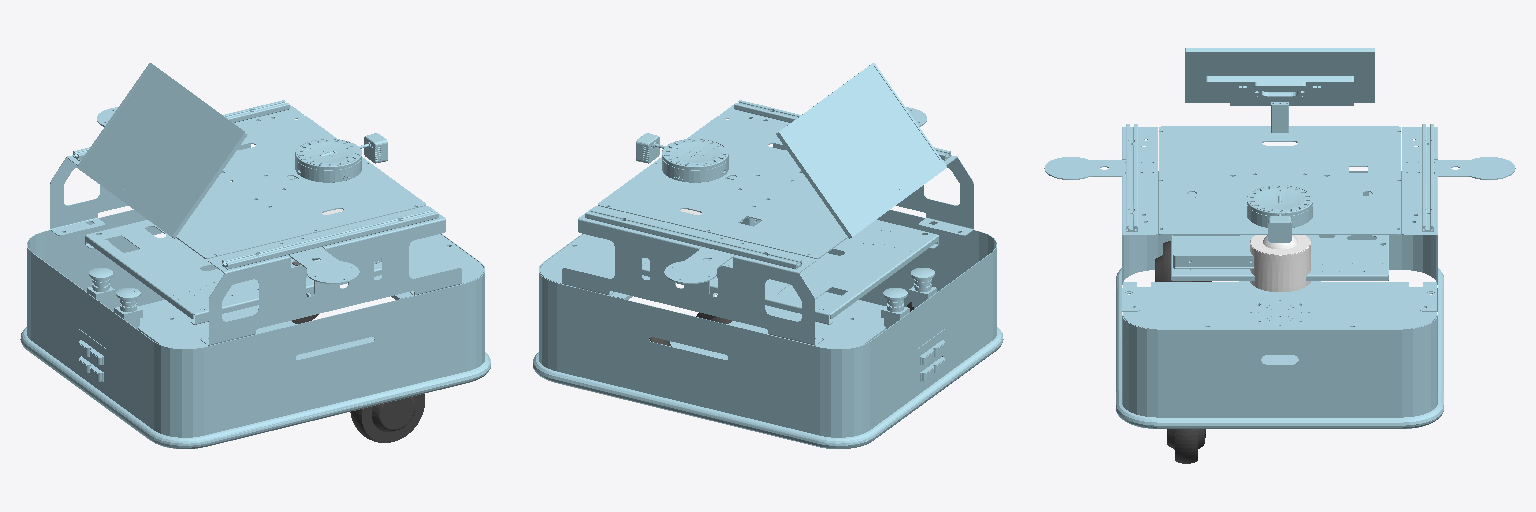
URDF robot description (lucsys_lsr200auto_akm_lite):
<?xml version="1.0" encoding="utf-8"?>
<robot name="lucsys_lsr200auto_akm_lite">
  <link name="base_link">
    <inertial>
      <origin xyz="-0.0283966067637906 0.00449390506381457 0.0692458862341471" rpy="0 0 0" />
      <mass value="1.41795964763811" />
      <inertia ixx="0.00365403013342928" ixy="-8.41076498613861E-06" ixz="-0.000120522462398885" iyy="0.00594517964152508" iyz="1.64128430565514E-06" izz="0.00899915205791385" />
    </inertial>
    <visual>
      <origin xyz="0 0 0" rpy="0 0 0" />
      <geometry>
        <mesh filename="package://lucsys_lsr200auto_akm_lite_description/meshes/lsr200auto_akm_lite/base_link.STL" />
      </geometry>
      <material name="lucsys_material_0">
        <color rgba="0.741176470588235 0.901960784313726 0.956862745098039 1" />
      </material>
    </visual>
    <collision>
      <origin xyz="0 0 0" rpy="0 0 0" />
      <geometry>
        <mesh filename="package://lucsys_lsr200auto_akm_lite_description/meshes/lsr200auto_akm_lite/base_link.STL" />
      </geometry>
    </collision>
  </link>
  <link name="lf_wheel_link">
    <inertial>
      <origin xyz="-2.36231678163445E-07 0.00330933793323804 1.59939802549941E-05" rpy="0 0 0" />
      <mass value="0.282382363555527" />
      <inertia ixx="0.000386424115262233" ixy="-5.52680329595221E-08" ixz="-4.06926730365545E-09" iyy="0.000685587986049065" iyz="2.23798747337568E-08" izz="0.000386465585918261" />
    </inertial>
    <visual>
      <origin xyz="0 0 0" rpy="0 0 0" />
      <geometry>
        <mesh filename="package://lucsys_lsr200auto_akm_lite_description/meshes/lsr200auto_akm_lite/lf_wheel_link.STL" />
      </geometry>
      <material name="lucsys_material_1">
        <color rgba="0.349019607843137 0.349019607843137 0.349019607843137 1" />
      </material>
    </visual>
    <collision>
      <origin xyz="0 0 0" rpy="0 0 0" />
      <geometry>
        <mesh filename="package://lucsys_lsr200auto_akm_lite_description/meshes/lsr200auto_akm_lite/lf_wheel_link.STL" />
      </geometry>
    </collision>
  </link>
  <joint name="lf_wheel_joint" type="continuous">
    <origin xyz="0.1608 0.15274 0.0241" rpy="0 0 0" />
    <parent link="base_link" />
    <child link="lf_wheel_link" />
    <axis xyz="-0.00018436 1 0" />
  </joint>
  <link name="lb_wheel_link">
    <inertial>
      <origin xyz="-3.76432267024107E-07 0.00330933793138721 -1.59969838649243E-05" rpy="0 0 0" />
      <mass value="0.282382358217047" />
      <inertia ixx="0.00038642408363422" ixy="1.15581655418689E-10" ixz="-3.93574712946211E-09" iyy="0.000685587984367836" iyz="-2.23805637399097E-08" izz="0.000386465595314486" />
    </inertial>
    <visual>
      <origin xyz="0 0 0" rpy="0 0 0" />
      <geometry>
        <mesh filename="package://lucsys_lsr200auto_akm_lite_description/meshes/lsr200auto_akm_lite/lb_wheel_link.STL" />
      </geometry>
      <material name="lucsys_material_2">
        <color rgba="0.349019607843137 0.349019607843137 0.349019607843137 1" />
      </material>
    </visual>
    <collision>
      <origin xyz="0 0 0" rpy="0 0 0" />
      <geometry>
        <mesh filename="package://lucsys_lsr200auto_akm_lite_description/meshes/lsr200auto_akm_lite/lb_wheel_link.STL" />
      </geometry>
    </collision>
  </link>
  <joint name="lb_wheel_joint" type="continuous">
    <origin xyz="-0.15789 0.15434 0.024" rpy="0 0 0" />
    <parent link="base_link" />
    <child link="lb_wheel_link" />
    <axis xyz="0 1 0" />
  </joint>
  <link name="rf_wheel_link">
    <inertial>
      <origin xyz="-3.74894962795747E-07 -0.000558652495833062 1.59951939343872E-05" rpy="0 0 0" />
      <mass value="0.282382361164223" />
      <inertia ixx="0.000386424096336984" ixy="-1.15258330841376E-10" ixz="4.013416843381E-09" iyy="0.000685587991396148" iyz="-2.23809588870044E-08" izz="0.000386465589640663" />
    </inertial>
    <visual>
      <origin xyz="0 0 0" rpy="0 0 0" />
      <geometry>
        <mesh filename="package://lucsys_lsr200auto_akm_lite_description/meshes/lsr200auto_akm_lite/rf_wheel_link.STL" />
      </geometry>
      <material name="lucsys_material_3">
        <color rgba="0.349019607843137 0.349019607843137 0.349019607843137 1" />
      </material>
    </visual>
    <collision>
      <origin xyz="0 0 0" rpy="0 0 0" />
      <geometry>
        <mesh filename="package://lucsys_lsr200auto_akm_lite_description/meshes/lsr200auto_akm_lite/rf_wheel_link.STL" />
      </geometry>
    </collision>
  </link>
  <joint name="rf_wheel_joint" type="continuous">
    <origin xyz="0.16081 -0.15386 0.0241" rpy="0 0 0" />
    <parent link="base_link" />
    <child link="rf_wheel_link" />
    <axis xyz="0 -1 0" />
  </joint>
  <link name="rb_wheel_link">
    <inertial>
      <origin xyz="6.52788980146091E-06 -0.000720322950036045 -1.47176288457715E-05" rpy="0 0 0" />
      <mass value="0.282382030867651" />
      <inertia ixx="0.000386426695992825" ixy="-7.9828866885517E-09" ixz="-1.26490539844854E-08" iyy="0.000685587939610514" iyz="2.0564113418309E-08" izz="0.000386462912707388" />
    </inertial>
    <visual>
      <origin xyz="0 0 0" rpy="0 0 0" />
      <geometry>
        <mesh filename="package://lucsys_lsr200auto_akm_lite_description/meshes/lsr200auto_akm_lite/rb_wheel_link.STL" />
      </geometry>
      <material name="lucsys_material_4">
        <color rgba="0.349019607843137 0.349019607843137 0.349019607843137 1" />
      </material>
    </visual>
    <collision>
      <origin xyz="0 0 0" rpy="0 0 0" />
      <geometry>
        <mesh filename="package://lucsys_lsr200auto_akm_lite_description/meshes/lsr200auto_akm_lite/rb_wheel_link.STL" />
      </geometry>
    </collision>
  </link>
  <joint name="rb_wheel_joint" type="continuous">
    <origin xyz="-0.15789 -0.1551 0.024" rpy="0 0 0" />
    <parent link="base_link" />
    <child link="rb_wheel_link" />
    <axis xyz="0 -1 0" />
  </joint>
  <link name="camera_link">
    <inertial>
      <origin xyz="3.24079092423046E-07 -2.22961604536042E-07 2.75547143435695E-07" rpy="0 0 0" />
      <mass value="0.0225464179517412" />
      <inertia ixx="2.01763360282011E-05" ixy="2.69072068298058E-09" ixz="3.95121304971283E-07" iyy="3.8119108395589E-06" iyz="-1.67828050851604E-08" izz="1.8077914186534E-05" />
    </inertial>
    <visual>
      <origin xyz="0 0 0" rpy="0 0 0" />
      <geometry>
        <mesh filename="package://lucsys_lsr200auto_akm_lite_description/meshes/lsr200auto_akm_lite/camera_link.STL" />
      </geometry>
      <material name="lucsys_material_5">
        <color rgba="1 1 1 1" />
      </material>
    </visual>
    <collision>
      <origin xyz="0 0 0" rpy="0 0 0" />
      <geometry>
        <mesh filename="package://lucsys_lsr200auto_akm_lite_description/meshes/lsr200auto_akm_lite/camera_link.STL" />
      </geometry>
    </collision>
  </link>
  <joint name="camera_joint" type="fixed">
    <origin xyz="0.16983 0.00067299 0.085068" rpy="0 0 0" />
    <parent link="base_link" />
    <child link="camera_link" />
    <axis xyz="0 0 0" />
  </joint>
  <link name="gyro_link">
    <inertial>
      <origin xyz="-0.0226680356023408 0.0293499994998707 0.00556835972762262" rpy="0 0 0" />
      <mass value="0.0236095918180264" />
      <inertia ixx="5.41912566272011E-06" ixy="-2.20925590187751E-14" ixz="-1.81405417766127E-09" iyy="4.38737045547093E-06" iyz="4.78388289459201E-14" izz="9.32311354559021E-06" />
    </inertial>
    <visual>
      <origin xyz="0 0 0" rpy="0 0 0" />
      <geometry>
        <mesh filename="package://lucsys_lsr200auto_akm_lite_description/meshes/lsr200auto_akm_lite/gyro_link.STL" />
      </geometry>
      <material name="lucsys_material_6">
        <color rgba="0.741176470588235 0.901960784313726 0.956862745098039 1" />
      </material>
    </visual>
    <collision>
      <origin xyz="0 0 0" rpy="0 0 0" />
      <geometry>
        <mesh filename="package://lucsys_lsr200auto_akm_lite_description/meshes/lsr200auto_akm_lite/gyro_link.STL" />
      </geometry>
    </collision>
  </link>
  <joint name="gyro_joint" type="fixed">
    <origin xyz="-0.052356 0.023789 0.0651" rpy="0 0 0" />
    <parent link="base_link" />
    <child link="gyro_link" />
    <axis xyz="0 0 0" />
  </joint>
  <link name="laser_link">
    <inertial>
      <origin xyz="-0.134373780808885 0.00199599031449515 -0.118434690411188" rpy="0 0 0" />
      <mass value="3.24885081568233" />
      <inertia ixx="0.103396952888868" ixy="-0.000357980293990003" ixz="0.00873509796770719" iyy="0.126106847247279" iyz="0.000430607025614972" izz="0.0918790685654746" />
    </inertial>
    <visual>
      <origin xyz="0 0 0" rpy="0 0 0" />
      <geometry>
        <mesh filename="package://lucsys_lsr200auto_akm_lite_description/meshes/lsr200auto_akm_lite/laser_link.STL" />
      </geometry>
      <material name="lucsys_material_7">
        <color rgba="1 1 1 1" />
      </material>
    </visual>
    <collision>
      <origin xyz="0 0 0" rpy="0 0 0" />
      <geometry>
        <mesh filename="package://lucsys_lsr200auto_akm_lite_description/meshes/lsr200auto_akm_lite/laser_link.STL" />
      </geometry>
    </collision>
  </link>
  <joint name="laser_joint" type="fixed">
    <origin xyz="0.11437 0.00081099 0.2342" rpy="0 0 0" />
    <parent link="base_link" />
    <child link="laser_link" />
    <axis xyz="0 0 0" />
  </joint>
  <link name="rtk_link">
    <inertial>
      <origin xyz="1.93873221414342E-07 -5.57900590481797E-09 4.88318818492317E-07" rpy="0 0 0" />
      <mass value="0.654865522959427" />
      <inertia ixx="0.000819546658415736" ixy="-9.57810009855074E-11" ixz="1.19748582927923E-06" iyy="0.000817613597625929" iyz="-8.55672374604797E-11" izz="0.00139492193339815" />
    </inertial>
    <visual>
      <origin xyz="0 0 0" rpy="0 0 0" />
      <geometry>
        <mesh filename="package://lucsys_lsr200auto_akm_lite_description/meshes/lsr200auto_akm_lite/rtk_link.STL" />
      </geometry>
      <material name="lucsys_material_8">
        <color rgba="1 1 1 1" />
      </material>
    </visual>
    <collision>
      <origin xyz="0 0 0" rpy="0 0 0" />
      <geometry>
        <mesh filename="package://lucsys_lsr200auto_akm_lite_description/meshes/lsr200auto_akm_lite/rtk_link.STL" />
      </geometry>
    </collision>
  </link>
  <joint name="rtk_joint" type="fixed">
    <origin xyz="-0.043328 0.00081099 0.37739" rpy="0 0 0" />
    <parent link="base_link" />
    <child link="rtk_link" />
    <axis xyz="0 0 0" />
  </joint>
</robot>

--- What the picture shows (computed from the rendered views, not written in the file) ---
The picture shows the robot from 3 angles, left to right: view 1: azimuth 30°, elevation 25°; view 2: azimuth 150°, elevation 25°; view 3: azimuth 270°, elevation 25°; orthographic projection.
Model lucsys_lsr200auto_akm_lite with 9 links and 8 joints (4 continuous, 4 fixed), rooted at base_link, posed all joints at 0.
Visible links, largest first — view 1: base_link, rf_wheel_link; view 2: base_link; view 3: base_link, laser_link, rf_wheel_link, rb_wheel_link.
Boxes of the visible links, box(x1,y1,x2,y2) form: base_link: box(20, 63, 490, 448); rf_wheel_link: box(350, 394, 424, 442); base_link: box(533, 63, 1003, 448); base_link: box(1044, 48, 1515, 428); laser_link: box(1250, 235, 1310, 291); rf_wheel_link: box(1167, 429, 1205, 463); rb_wheel_link: box(1155, 241, 1211, 281).
Size in the robot's own frame: 0.64 by 0.7764 by 0.6233 metres.
5 mesh visuals loaded from 9 distinct referenced files (5 binary STL); not drawn: 4 (reference not matched to a file when rendering).
